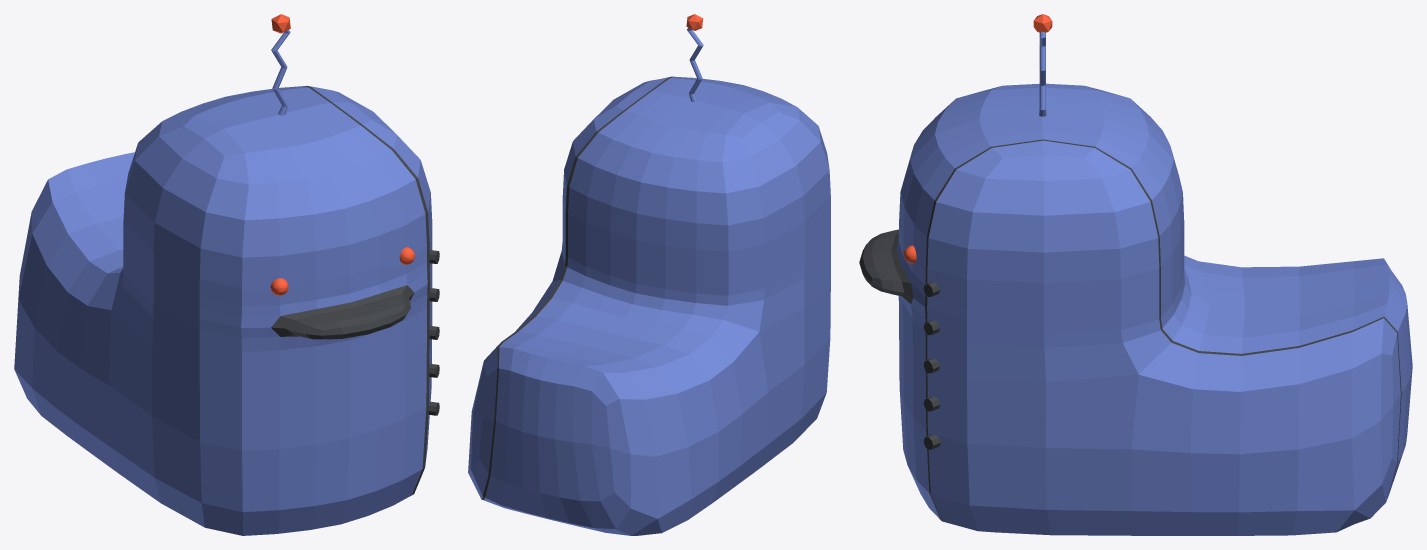
The model's file is Duck_DiscordBot.glb.
The picture shows the model from 3 angles, left to right: view 1: azimuth 30°, elevation 25°; view 2: azimuth 150°, elevation 25°; view 3: azimuth 270°, elevation 25°; orthographic projection. The views are drawn at different scales.
Visible parts, largest first — view 1: Duck; view 2: Duck; view 3: Duck.
Part boxes in pixels (x1,y1,x2,y2): Duck: (14, 14, 439, 535); Duck: (468, 14, 830, 535); Duck: (859, 14, 1412, 535).
Bounding box in the file's own units: 2.08 × 3.73 × 3.94.
